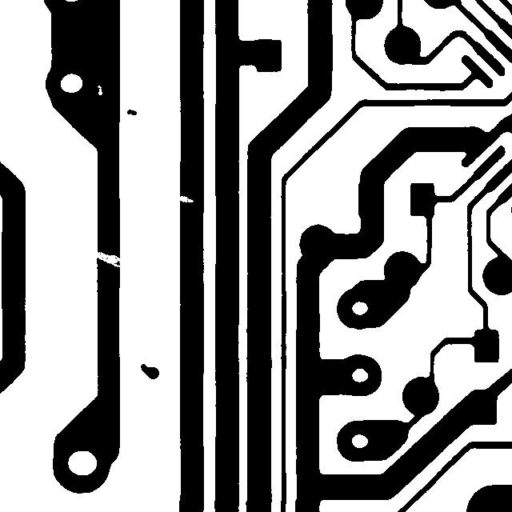copper: (133, 356, 166, 386), (119, 102, 144, 122)
mousebite: (170, 188, 201, 210)
open: (86, 244, 132, 277)
pin-hole: (90, 78, 110, 102)
